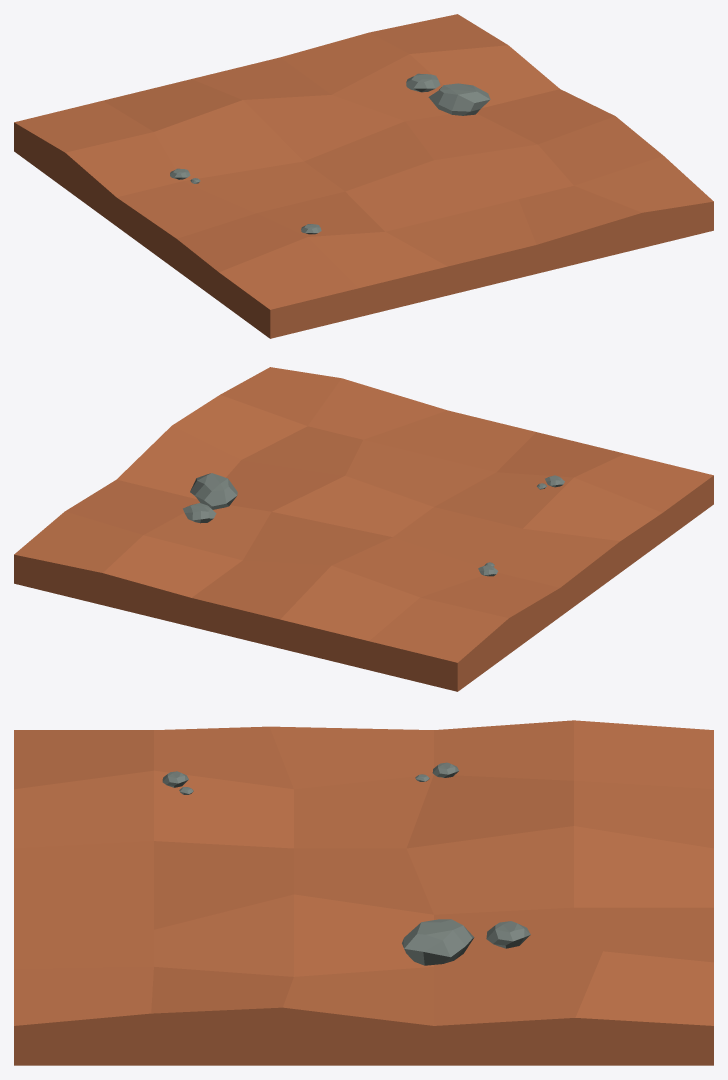
The model's file is ModelPanelBlock_Tuchi.fbx.
3 renders of one model, top to bottom at view 1: azimuth 30°, elevation 25°; view 2: azimuth 150°, elevation 25°; view 3: azimuth 270°, elevation 25°, orthographic. The views are drawn at different scales.
Visible parts, largest first — view 1: PanelBlock_tuchi; view 2: PanelBlock_tuchi; view 3: PanelBlock_tuchi.
Part boxes in pixels (x1,y1,x2,y2): PanelBlock_tuchi: [14, 14, 713, 338]; PanelBlock_tuchi: [14, 367, 713, 691]; PanelBlock_tuchi: [14, 720, 713, 1065].
Bounding box in the file's own units: 4 × 0.455 × 4.
